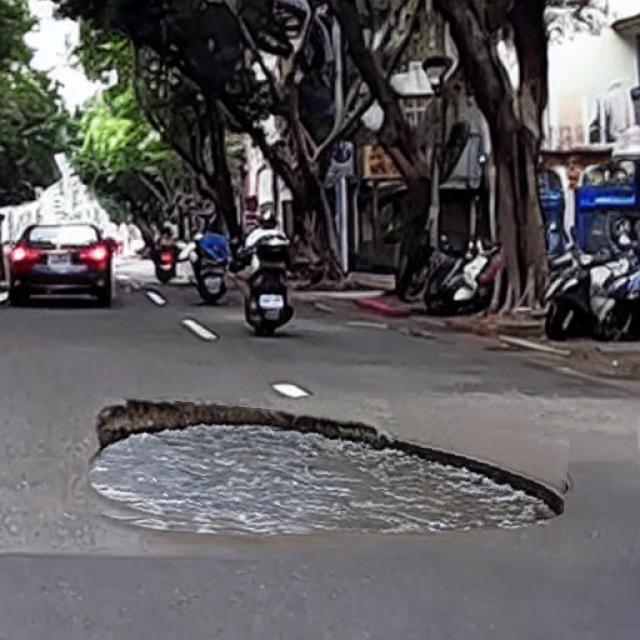puddle: (87, 406, 569, 546)
